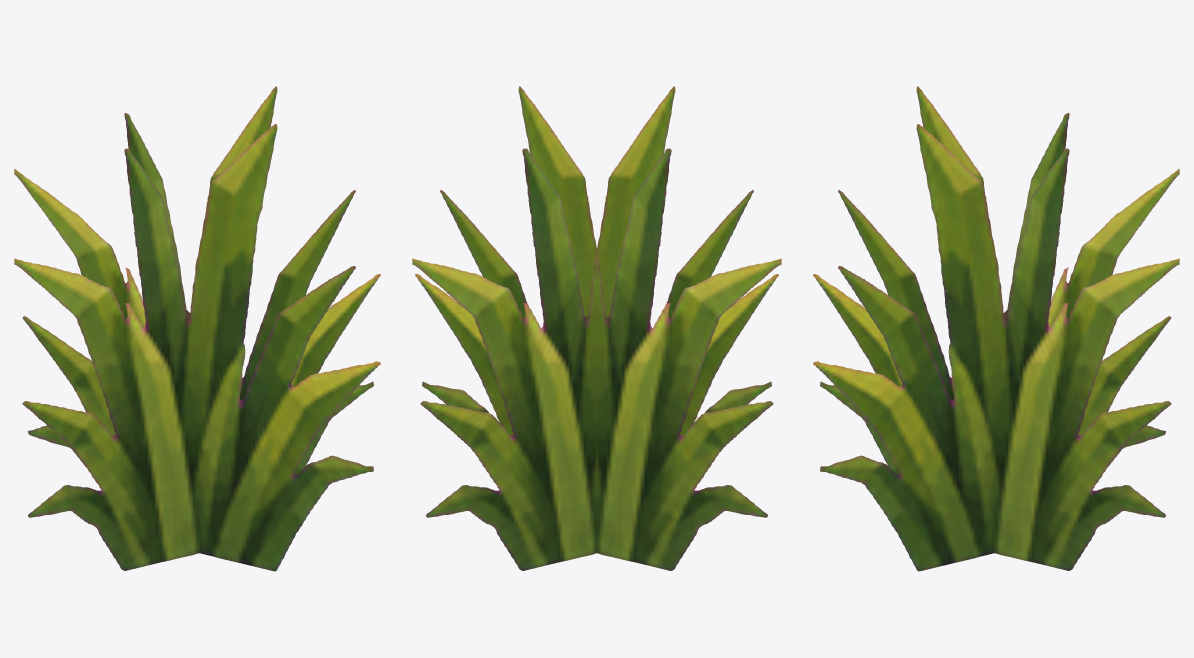
File: h_racines_touffe.glb
3 views of the same model, side by side, from view 1: azimuth 30°, elevation 25°; view 2: azimuth 150°, elevation 25°; view 3: azimuth 270°, elevation 25° (orthographic).
Parts seen in each view (by area): view 1: h_racines_touffe; view 2: h_racines_touffe; view 3: h_racines_touffe.
Part boxes in pixels (box(x1,y1,x2,y2)): h_racines_touffe: box(14, 86, 380, 571); h_racines_touffe: box(412, 86, 781, 570); h_racines_touffe: box(813, 86, 1179, 571).
Bounding box in the file's own units: 0.2747 × 0.32 × 0.2379.
Materials: 1 (1 with a texture image).
